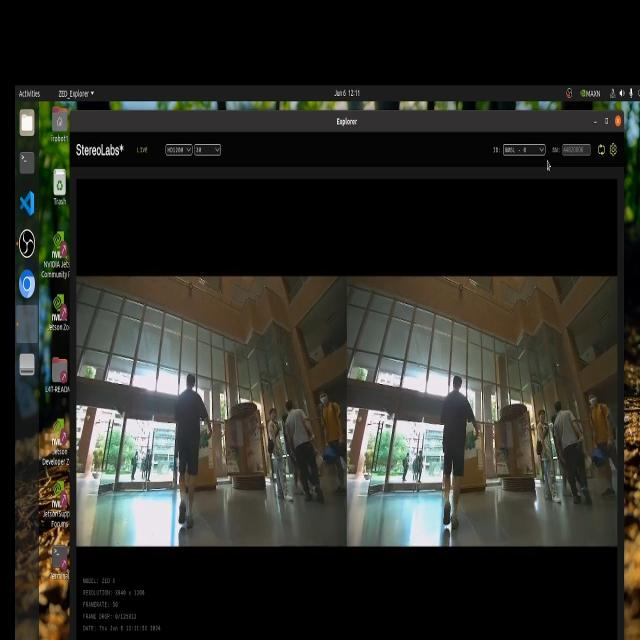green: (196, 425, 213, 456), (460, 426, 476, 450)
